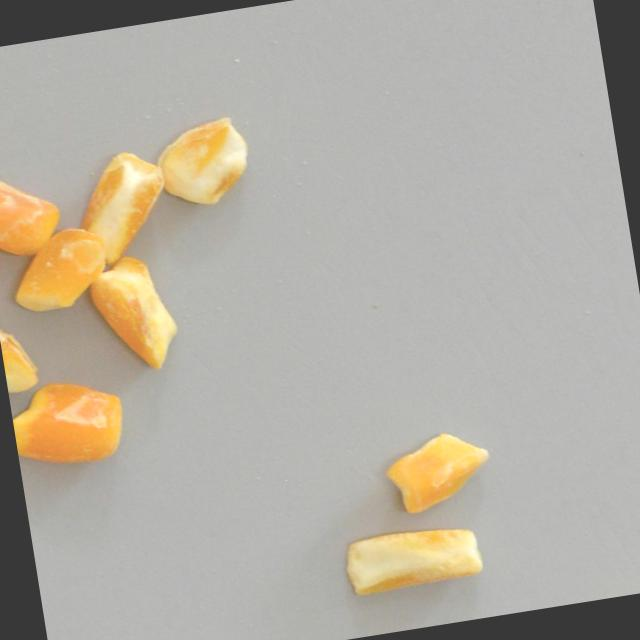dañado: (7, 369, 137, 478), (70, 148, 177, 274), (86, 250, 186, 381), (0, 165, 67, 264), (0, 287, 40, 395)
pelicula: (340, 513, 493, 602), (377, 423, 499, 522), (148, 115, 258, 215), (4, 222, 115, 318)
